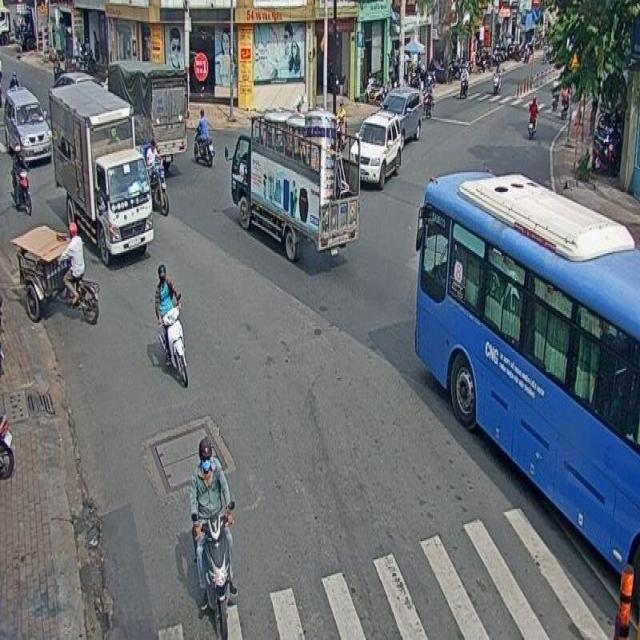bus: (413, 169, 640, 563)
car: (349, 110, 402, 189), (4, 87, 51, 163), (381, 88, 422, 144)
motorcycle: (190, 434, 236, 640), (154, 264, 188, 386), (194, 108, 214, 169)
truck: (233, 114, 361, 265), (47, 82, 153, 262), (108, 60, 185, 158)
